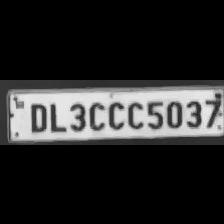0: (164, 96, 182, 128)
3: (66, 97, 86, 130), (182, 95, 202, 127)
5: (142, 96, 164, 128)
7: (202, 94, 222, 128)
C: (85, 97, 105, 129), (124, 97, 144, 128), (105, 97, 124, 129)
D: (25, 100, 47, 132)
L: (46, 98, 66, 132)
